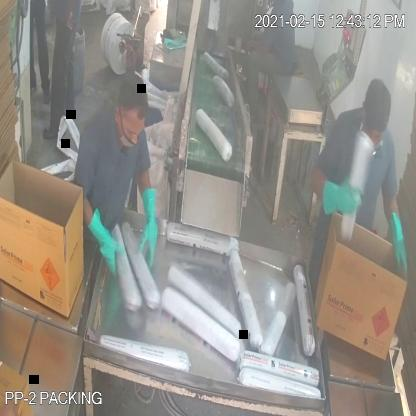glove: (314, 167, 367, 232), (132, 174, 164, 276), (88, 200, 124, 282), (384, 201, 410, 278)
no_glove: (239, 36, 275, 64)
